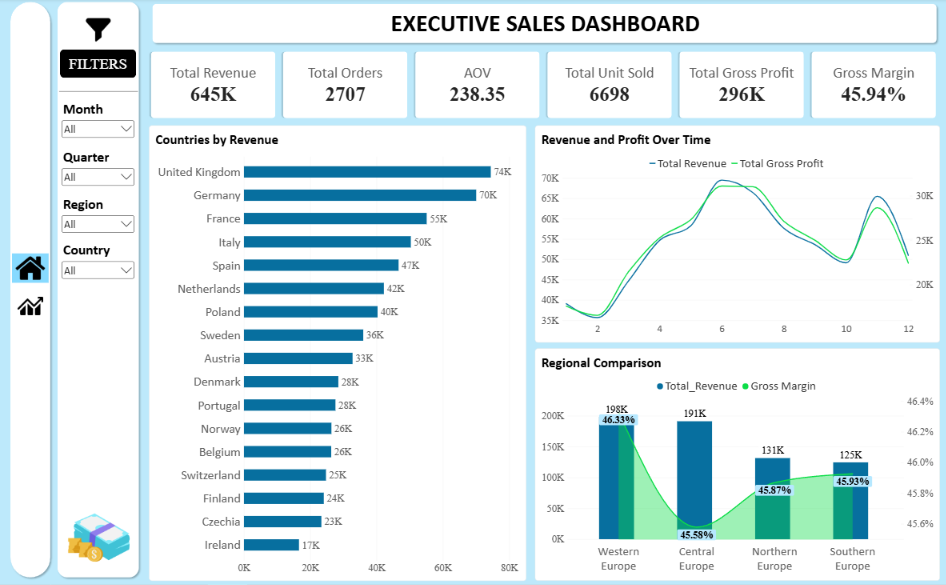

This screenshot's page, from the dashboard's own definition file:
{"tool":"powerbi","page":{"name":"Home","canvas":[2500,1550],"ordinal":0},"visuals":[{"type":"shape","box":[142,0,233.2,1538.4],"z":0},{"type":"slicer","fields":{"Values":["Date_Table.Quarter"]},"box":[158.1,396.7,201,112.6],"z":0,"group":"g1"},{"type":"shape","box":[18.8,0,123.3,1538.4],"z":1000},{"type":"slicer","fields":{"Values":["Date_Table.Month_Name"]},"box":[158.1,270.7,201,112.6],"z":1000,"group":"g1"},{"type":"cardVisual","fields":{"Data":["ALL Measures.Total_Revenue","ALL Measures.Total Orders","ALL Measures.AOV","ALL Measures.Total Unit Sold","ALL Measures.Total Gross Profit","ALL Measures.Gross Margin"]},"box":[394,134,2087.8,187.6],"z":2000},{"type":"slicer","fields":{"Values":["SalesDataTable.Country"]},"box":[158.1,643.2,201,107.2],"z":2000,"group":"g1"},{"type":"lineChart","title":"Revenue and Profit Over Time","fields":{"Category":["Date_Table.Month_Number"],"Y":["ALL Measures.Total_Revenue"],"Y2":["ALL Measures.Total Gross Profit"]},"box":[1412.4,335,1069.4,573.5],"z":3000},{"type":"slicer","fields":{"Values":["SalesDataTable.Region"]},"box":[158.1,522.6,201,107.2],"z":3000,"group":"g1"},{"type":"image","box":[32.2,672.7,96.5,77.7],"z":4000},{"type":"clusteredBarChart","title":"Countries by Revenue","fields":{"Category":["SalesDataTable.Country"],"Y":["ALL Measures.Total_Revenue"]},"box":[394,335,997,1203.4],"z":5000},{"type":"lineClusteredColumnComboChart","title":"Regional Comparison","fields":{"Category":["SalesDataTable.Region"],"Y":["ALL Measures.Total_Revenue"],"Y2":["ALL Measures.Gross Margin"]},"box":[1412.4,924.6,1069.4,613.7],"z":6000},{"type":"shape","box":[155.4,238.5,209,16.1],"z":7000},{"type":"image","box":[32.2,769.2,96.5,77.7],"z":8000},{"type":"image","box":[211.7,42.9,96.5,77.7],"z":9000},{"type":"shape","box":[158.1,134,201,75],"z":10000},{"type":"group","id":"g1","title":"Group 1","box":[158.1,270.7,201,479.7],"z":11000},{"type":"image","box":[168.8,1329.3,184.9,190.3],"z":12000},{"type":"shape","box":[393.6,5.3,2089.4,121.5],"z":13000}]}

Visuals, with their boxes in screenshot pixels (x1, y1, x2, y2), scaled from the page's 2500x1550 canvas onto the 946x585 screenshot:
shape: crop(54, 0, 142, 581)
slicer - Date_Table.Quarter: crop(60, 150, 136, 192)
shape: crop(7, 0, 54, 581)
slicer - Date_Table.Month_Name: crop(60, 102, 136, 145)
cardVisual - ALL Measures.Total_Revenue x ALL Measures.Total Orders: crop(149, 51, 939, 121)
slicer - SalesDataTable.Country: crop(60, 243, 136, 283)
"Revenue and Profit Over Time" lineChart: crop(534, 126, 939, 343)
slicer - SalesDataTable.Region: crop(60, 197, 136, 238)
image: crop(12, 254, 49, 283)
"Countries by Revenue" clusteredBarChart: crop(149, 126, 526, 581)
"Regional Comparison" lineClusteredColumnComboChart: crop(534, 349, 939, 581)
shape: crop(59, 90, 138, 96)
image: crop(12, 290, 49, 320)
image: crop(80, 16, 117, 46)
shape: crop(60, 51, 136, 79)
"Group 1" group: crop(60, 102, 136, 283)
image: crop(64, 502, 134, 574)
shape: crop(149, 2, 940, 48)
